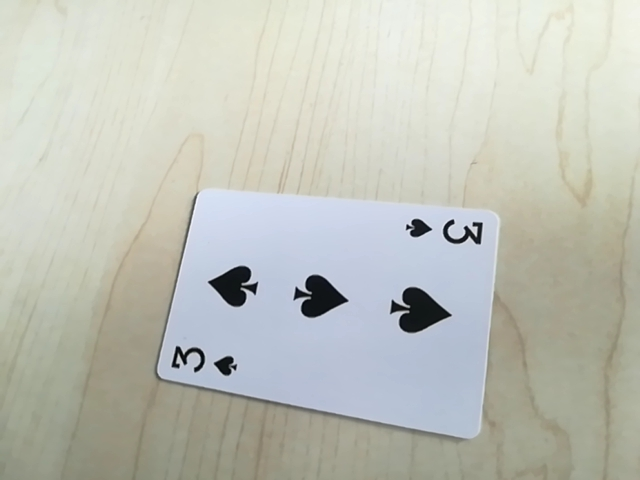ht 3: (165, 339, 246, 381), (400, 213, 488, 250)
